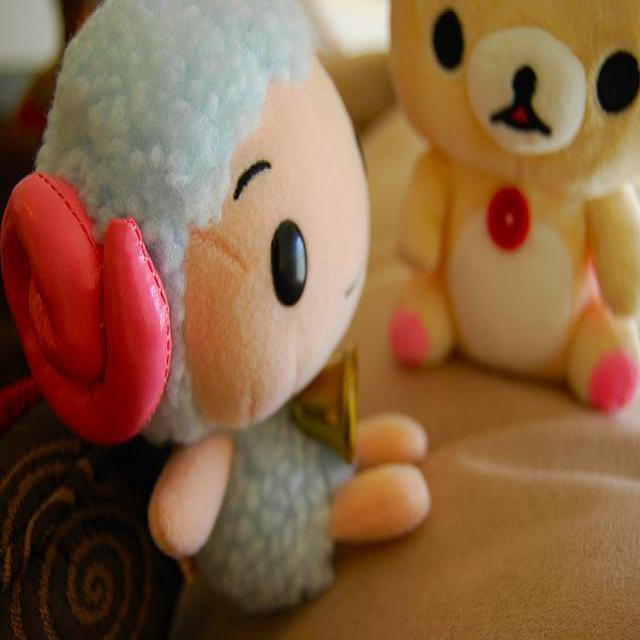Sheep: (1, 0, 434, 619)
